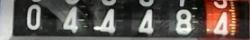digits: (93, 8, 119, 37), (62, 5, 87, 32), (211, 0, 228, 37), (135, 10, 156, 39), (174, 9, 192, 34), (26, 4, 41, 29)
